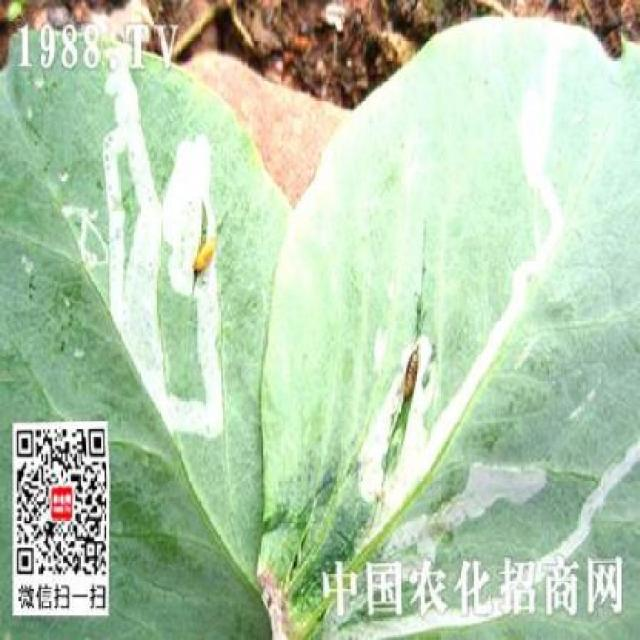whorl-maggot: (186, 228, 226, 290), (399, 334, 423, 414)
